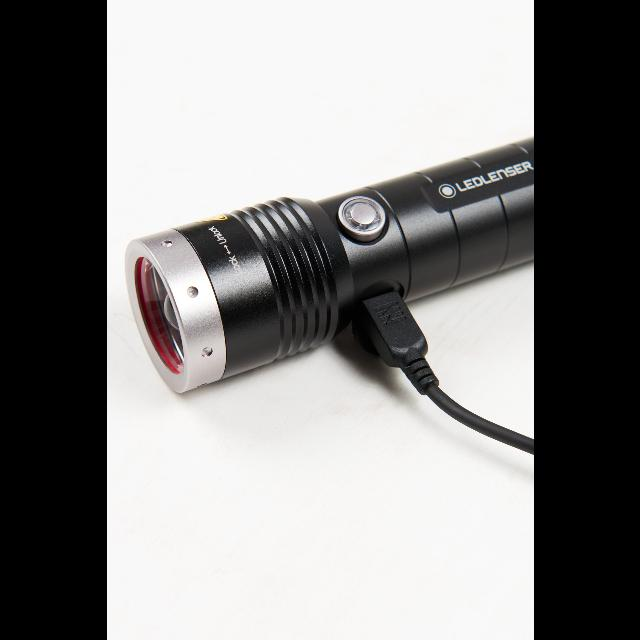Flashlight: (114, 129, 534, 461)
